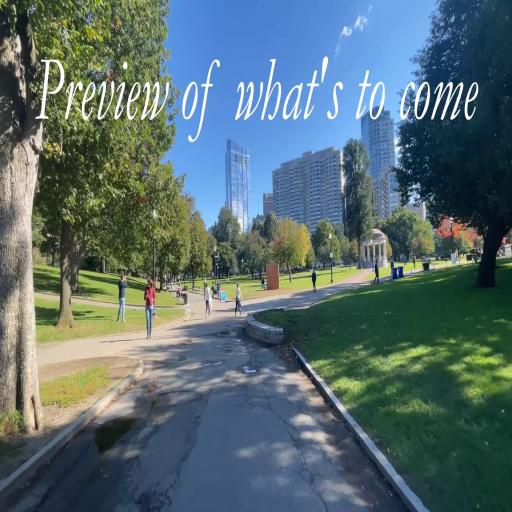Street_Light: (151, 206, 157, 290), (328, 230, 334, 284), (212, 242, 216, 286), (370, 237, 374, 272), (240, 257, 244, 282), (216, 262, 219, 285)
